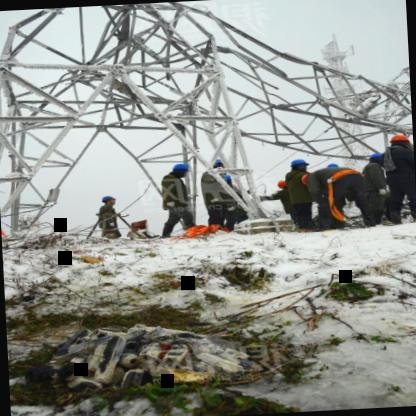helmet: (388, 131, 412, 152), (170, 162, 192, 180), (368, 148, 388, 166), (288, 157, 310, 173), (100, 195, 119, 206)
